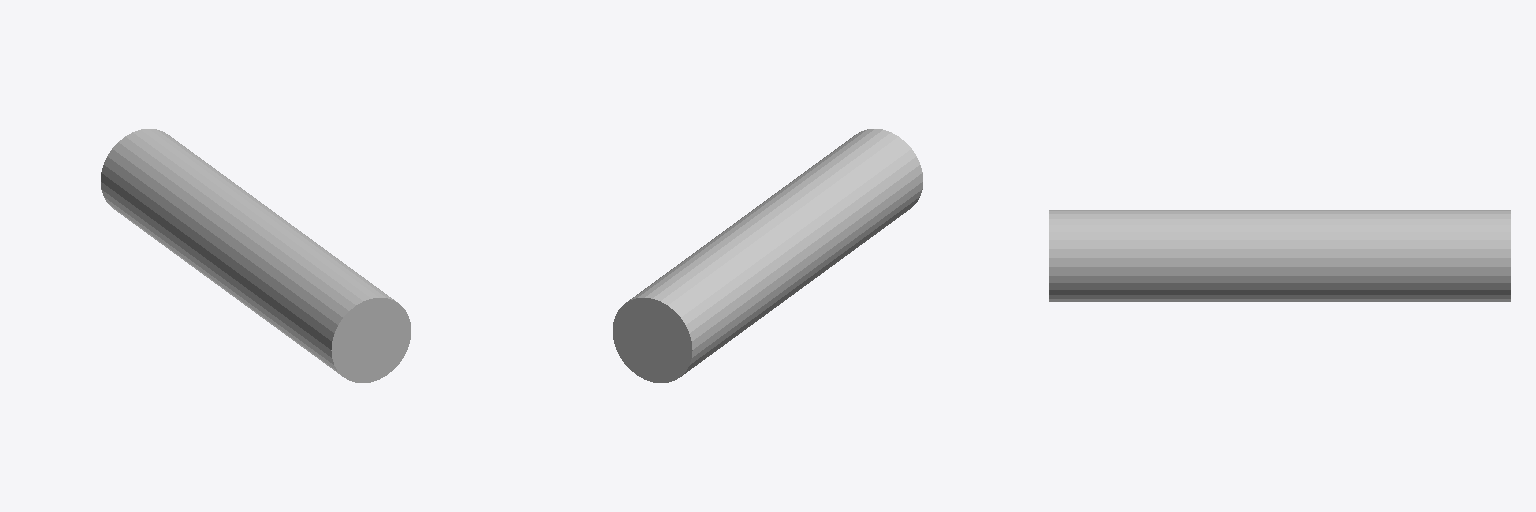
The model's file is laser.obj.
The picture shows the model from 3 angles: view 1: azimuth 30°, elevation 25°; view 2: azimuth 150°, elevation 25°; view 3: azimuth 270°, elevation 25°; orthographic projection.
Parts seen in each view (by area): view 1: Cylinder; view 2: Cylinder; view 3: Cylinder.
Boxes of the visible parts, x1,y1,x2,y2 form: Cylinder: [101, 129, 410, 382]; Cylinder: [613, 129, 922, 382]; Cylinder: [1049, 210, 1510, 301].
Size of the model in its own units: 0.2 by 0.2 by 1.